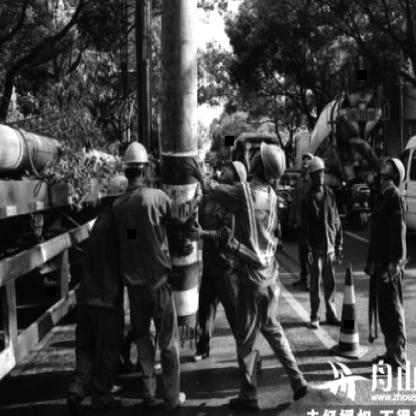helmet: (254, 140, 290, 182), (372, 150, 407, 191), (117, 134, 152, 174), (302, 147, 331, 184)
